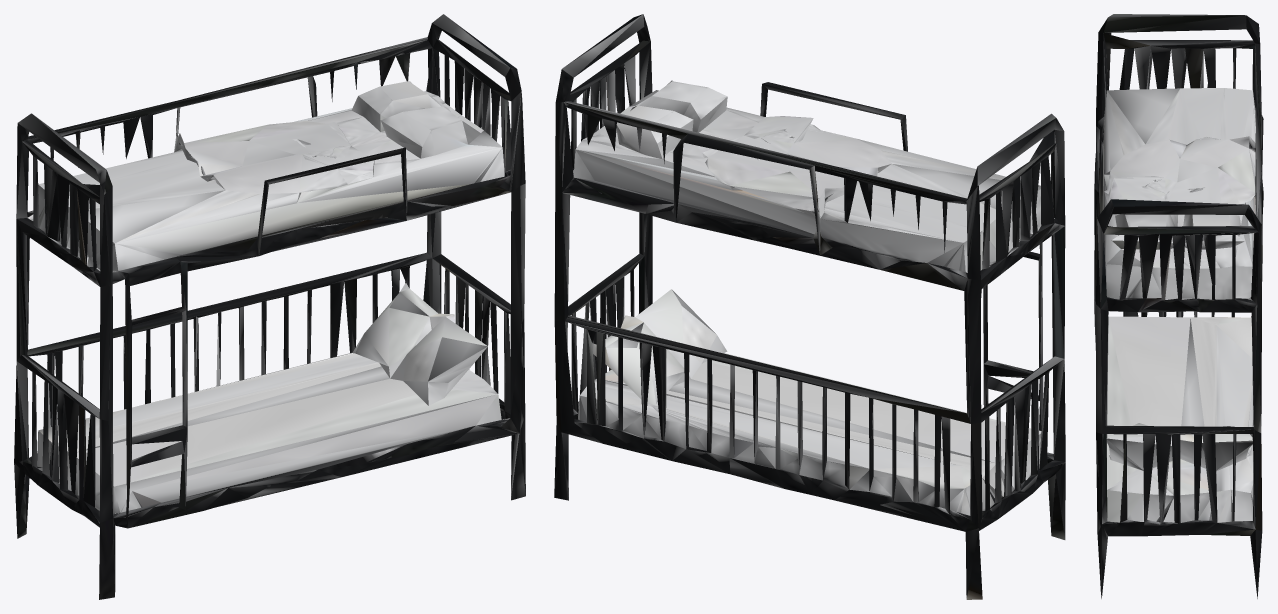
The model's file is mj-berth-iron-crew.lod1.glb.
3 renders of one model, left to right at view 1: azimuth 30°, elevation 25°; view 2: azimuth 150°, elevation 25°; view 3: azimuth 270°, elevation 25°, orthographic. The views are drawn at different scales.
Parts seen in each view (by area): view 1: mj-berth-iron-crew; view 2: mj-berth-iron-crew; view 3: mj-berth-iron-crew.
Boxes of the visible parts, x1,y1,x2,y2 form: mj-berth-iron-crew: [14, 14, 525, 599]; mj-berth-iron-crew: [554, 14, 1065, 599]; mj-berth-iron-crew: [1094, 14, 1263, 598].
Bounding box in the file's own units: 1.88 × 1.8 × 0.6969.
1 material, 1 textured.
